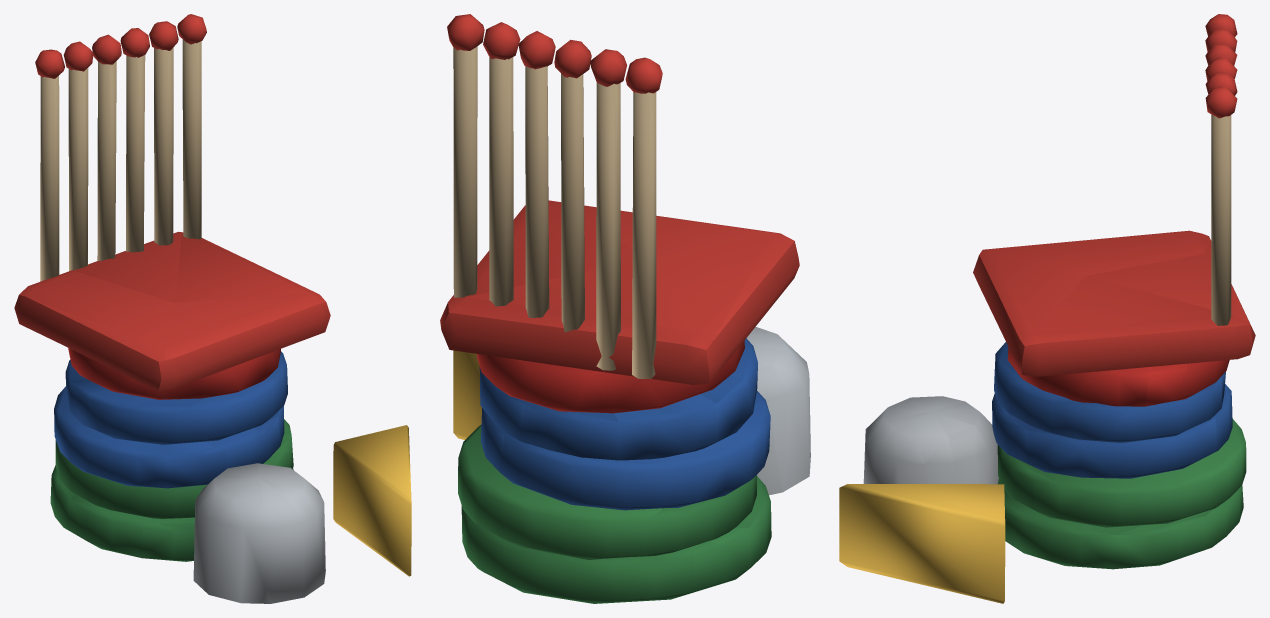
Rendered from den_throne_lod1.glb.
3 renders of one model, left to right at view 1: azimuth 30°, elevation 25°; view 2: azimuth 150°, elevation 25°; view 3: azimuth 270°, elevation 25°, orthographic. The views are drawn at different scales.
Parts seen in each view (by area): view 1: den_throne.001; view 2: den_throne.001; view 3: den_throne.001.
Part boxes in pixels (x1,y1,x2,y2): den_throne.001: (14, 14, 411, 603); den_throne.001: (440, 14, 810, 603); den_throne.001: (839, 14, 1255, 603).
Size of the model in its own units: 6.78 by 9.58 by 7.77.
